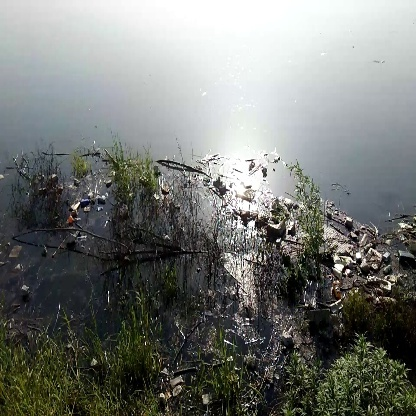branch: (12, 223, 148, 254), (156, 150, 211, 179)
grass: (6, 349, 71, 414)
